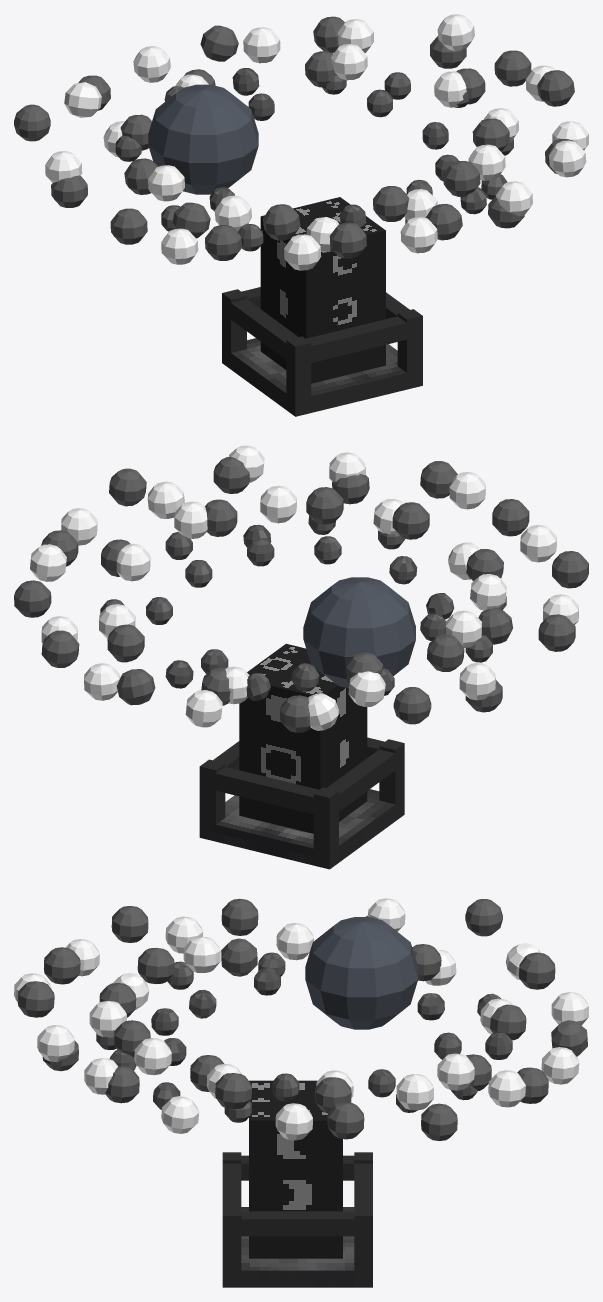
File: Ast3C (1).gltf
The picture shows the model from 3 angles, top to bottom: view 1: azimuth 30°, elevation 25°; view 2: azimuth 150°, elevation 25°; view 3: azimuth 270°, elevation 25°; orthographic projection. The views are drawn at different scales.
Parts seen in each view (by area): view 1: sphere (×2), cube (×2), Ceres, Platform; view 2: sphere (×2), cube (×2), Ceres, Platform; view 3: sphere (×2), cube (×2), Ceres, Platform.
Part boxes in pixels (x1,y1,x2,y2): sphere (×2): (14,14,588,270); cube (×2): (222,197,422,416); Ceres: (148,84,258,194); Platform: (222,338,422,416); sphere (×2): (14,445,588,732); cube (×2): (199,643,404,869); Ceres: (303,577,415,688); Platform: (200,789,402,865); sphere (×2): (14,898,588,1140); cube (×2): (222,1080,372,1287); Ceres: (305,917,418,1029); Platform: (241,1207,365,1287).
Size of the model in its own units: 0.9295 by 0.5312 by 0.9549.
Materials: 5 (4 with a texture image).
